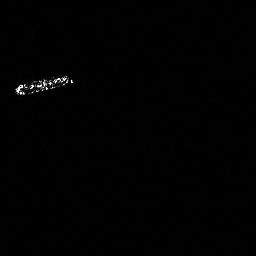ship: (15, 74, 74, 96)
